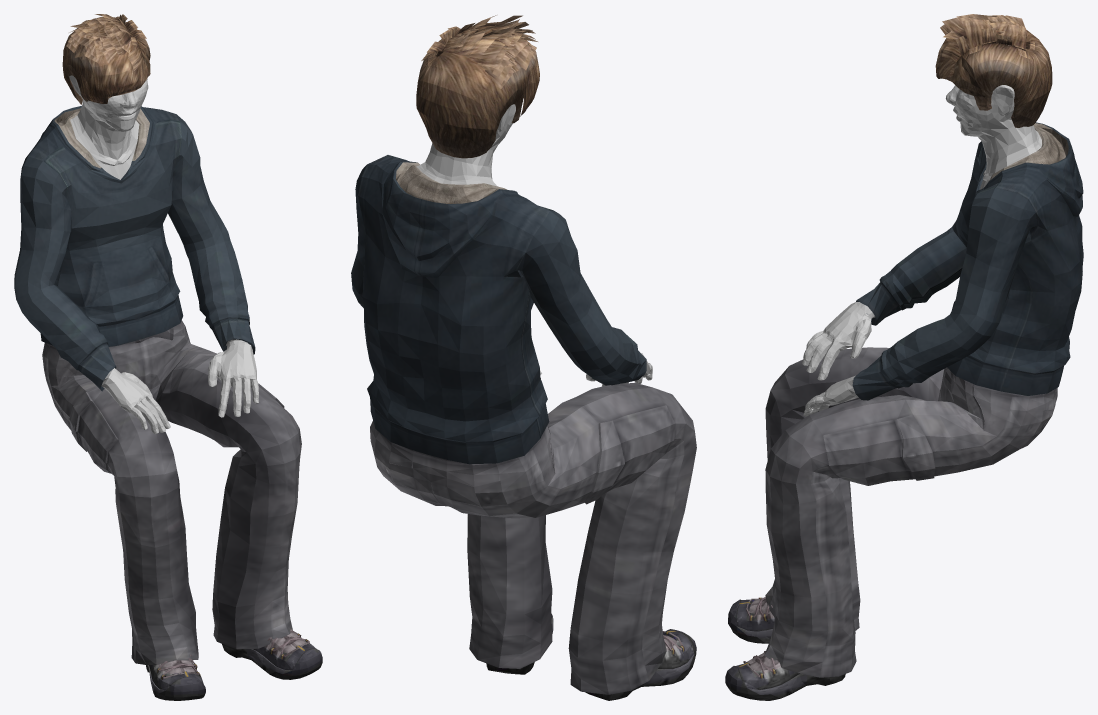
The model's file is boySitting.obj.
3 views of the same model, side by side, from view 1: azimuth 30°, elevation 25°; view 2: azimuth 150°, elevation 25°; view 3: azimuth 270°, elevation 25° (orthographic). The views are drawn at different scales.
Parts seen in each view (by area): view 1: RL_Lower.001, RL_Upper.001, RL_HairMesh.001, RL_Hands.001, RL_Shoes.001, RL_Face.001; view 2: RL_Upper.001, RL_Lower.001, RL_HairMesh.001, RL_Shoes.001; view 3: RL_Lower.001, RL_Upper.001, RL_HairMesh.001, RL_Shoes.001, RL_Hands.001, RL_Face.001.
Part boxes in pixels (box(x1,y1,x2,y2)): RL_Lower.001: box(42, 320, 301, 664); RL_Upper.001: box(14, 100, 255, 391); RL_HairMesh.001: box(62, 14, 150, 104); RL_Hands.001: box(105, 344, 258, 433); RL_Shoes.001: box(146, 628, 322, 700); RL_Face.001: box(69, 75, 148, 131); RL_Upper.001: box(351, 143, 646, 464); RL_Lower.001: box(370, 377, 696, 694); RL_HairMesh.001: box(416, 15, 539, 158); RL_Shoes.001: box(486, 613, 696, 700); RL_Lower.001: box(764, 347, 1057, 677); RL_Upper.001: box(852, 122, 1083, 400); RL_HairMesh.001: box(935, 14, 1052, 127); RL_Shoes.001: box(725, 597, 845, 700); RL_Hands.001: box(802, 304, 871, 416); RL_Face.001: box(945, 45, 1014, 142).
Size of the model in its own units: 48.95 by 131 by 66.98.
